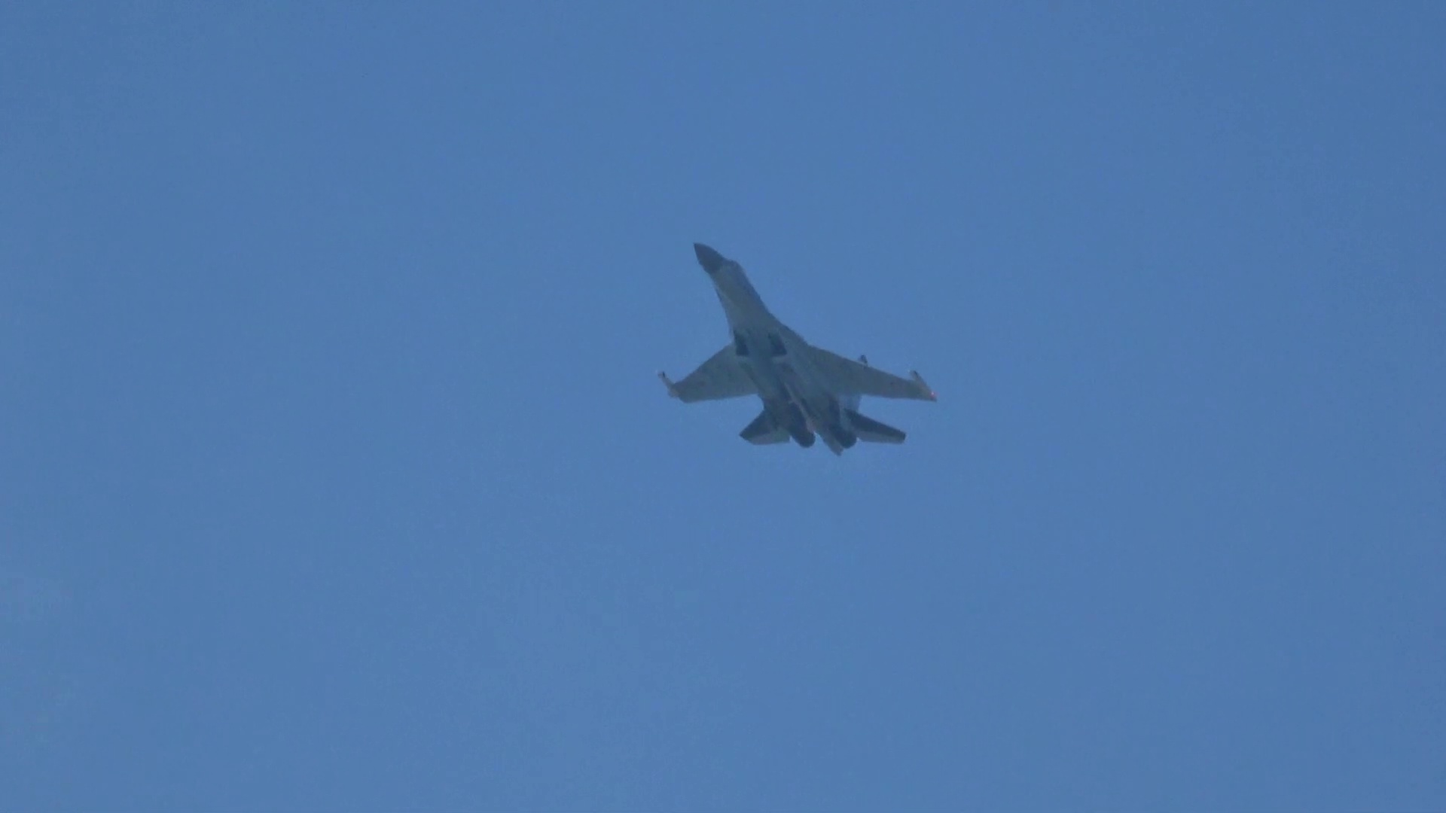Su35: (658, 243, 935, 457)
